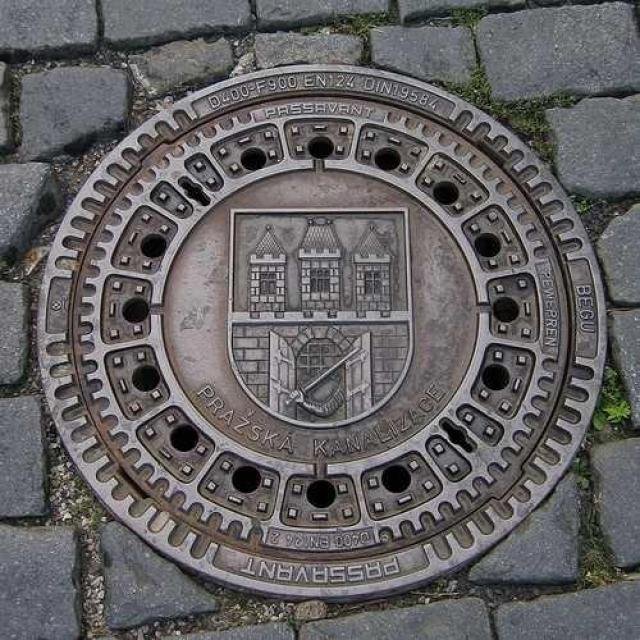manhole: (40, 66, 606, 599)
